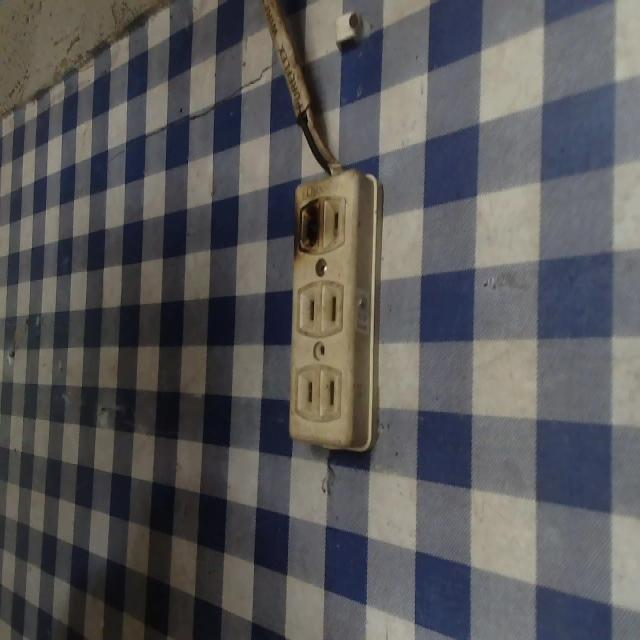-: (294, 197, 324, 252)
